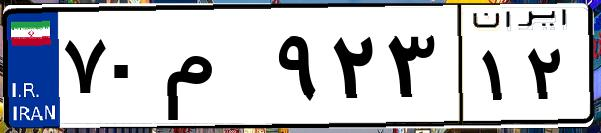0: (110, 28, 158, 98)
1: (475, 38, 525, 113)
2: (330, 28, 385, 110), (525, 38, 570, 115)
3: (385, 28, 445, 110)
7: (57, 26, 110, 100)
9: (270, 28, 330, 110)
م: (158, 20, 270, 120)
